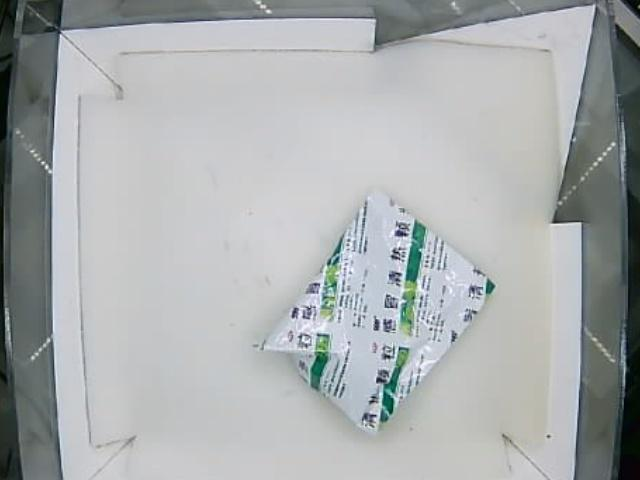Medicine: (248, 186, 496, 435)
